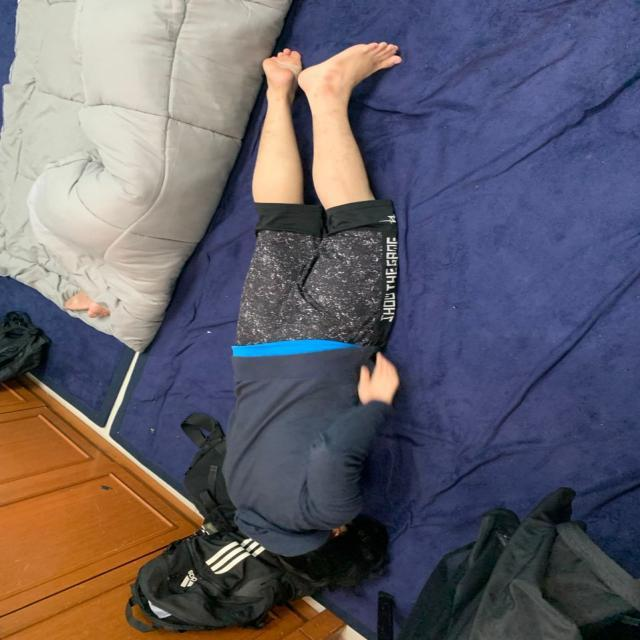fall: (218, 41, 408, 584)
